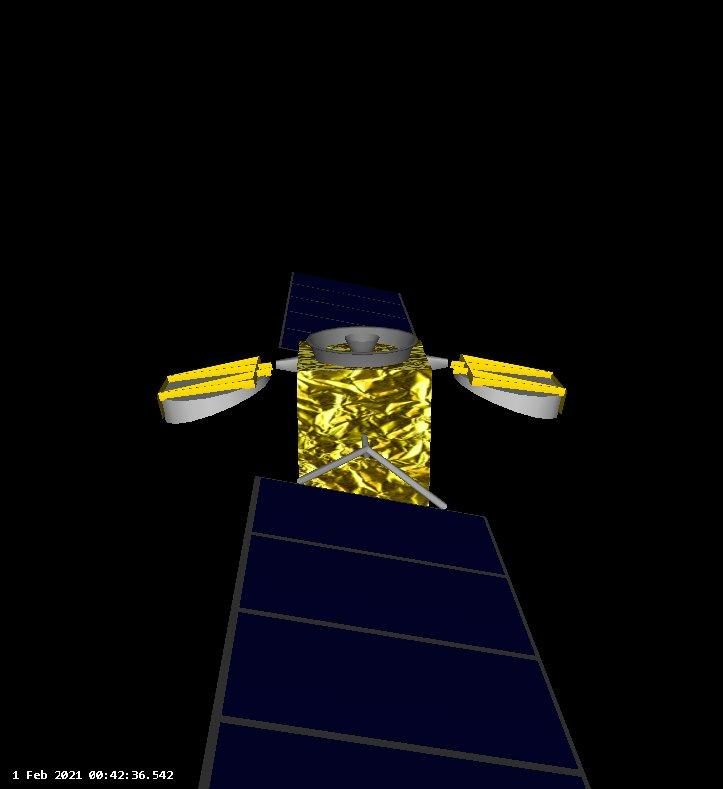antenna: (157, 363, 276, 430), (453, 356, 563, 424)
body: (293, 335, 435, 510)
solar: (194, 466, 596, 789), (279, 269, 422, 354)
thruster: (342, 328, 382, 355)
